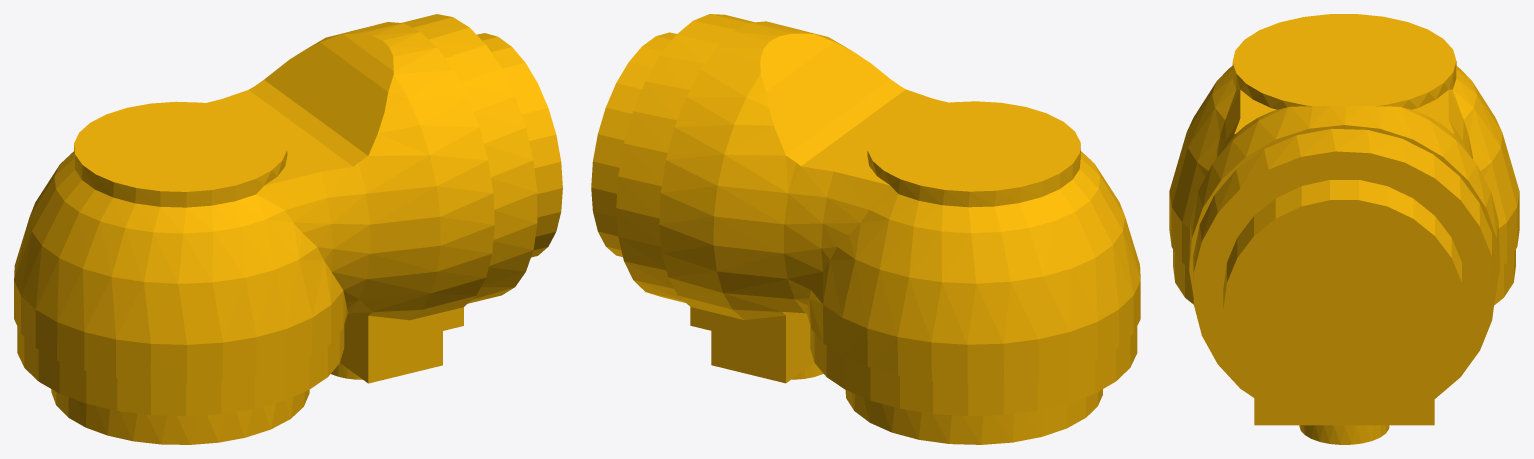
The picture shows the model from 3 angles, left to right: view 1: azimuth 30°, elevation 25°; view 2: azimuth 150°, elevation 25°; view 3: azimuth 270°, elevation 25°; orthographic projection. The views are drawn at different scales.
Parts seen in each view (by area): view 1: /node0/Part__Feature002001_002-mesh/0; view 2: /node0/Part__Feature002001_002-mesh/0; view 3: /node0/Part__Feature002001_002-mesh/0.
Part boxes in pixels (left/top/right/bottom): /node0/Part__Feature002001_002-mesh/0: left=14, top=14, right=562, bottom=444; /node0/Part__Feature002001_002-mesh/0: left=591, top=14, right=1140, bottom=444; /node0/Part__Feature002001_002-mesh/0: left=1169, top=14, right=1519, bottom=444.
Size of the model in its own units: 0.1573 by 0.101 by 0.0969.
